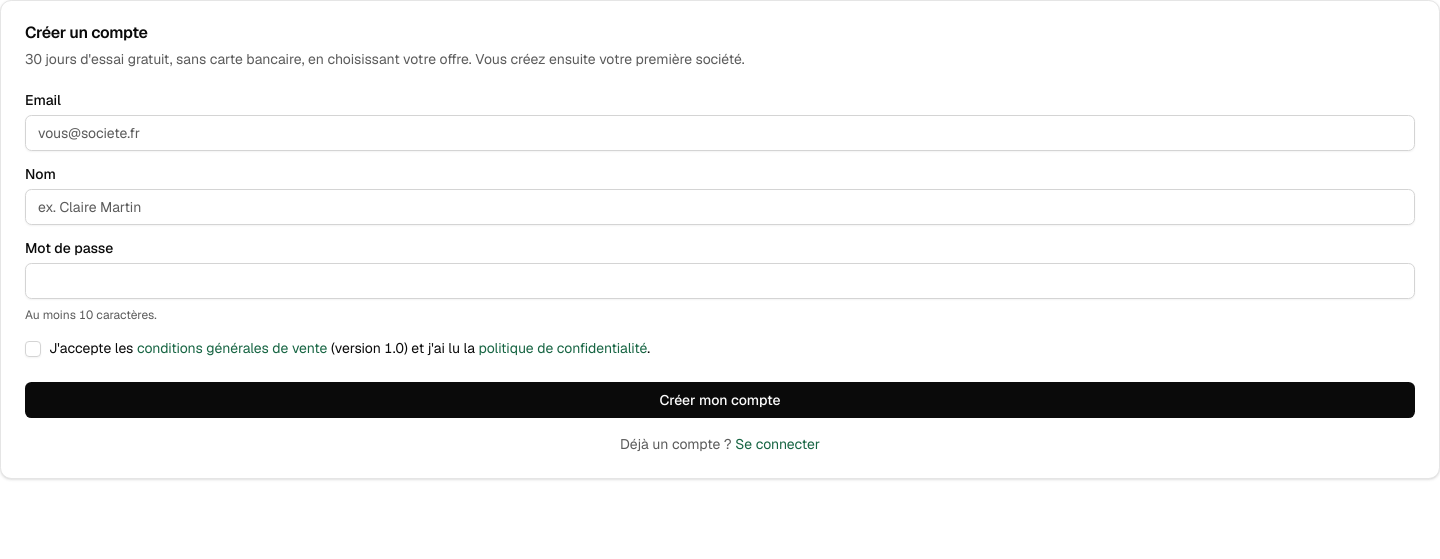
sign-up form › requires the terms, sends the version read, then points to the mailbox
The width and height of the screenshot is (1440, 559).
Check: the text "30 jours d'essai gratuit, sans carte bancaire" is shown, box x1=25 y1=50 x2=745 y2=68
Type "claire@societe.fr" into the field labelled "Email" at (720, 133), box x1=25 y1=115 x2=1415 y2=151
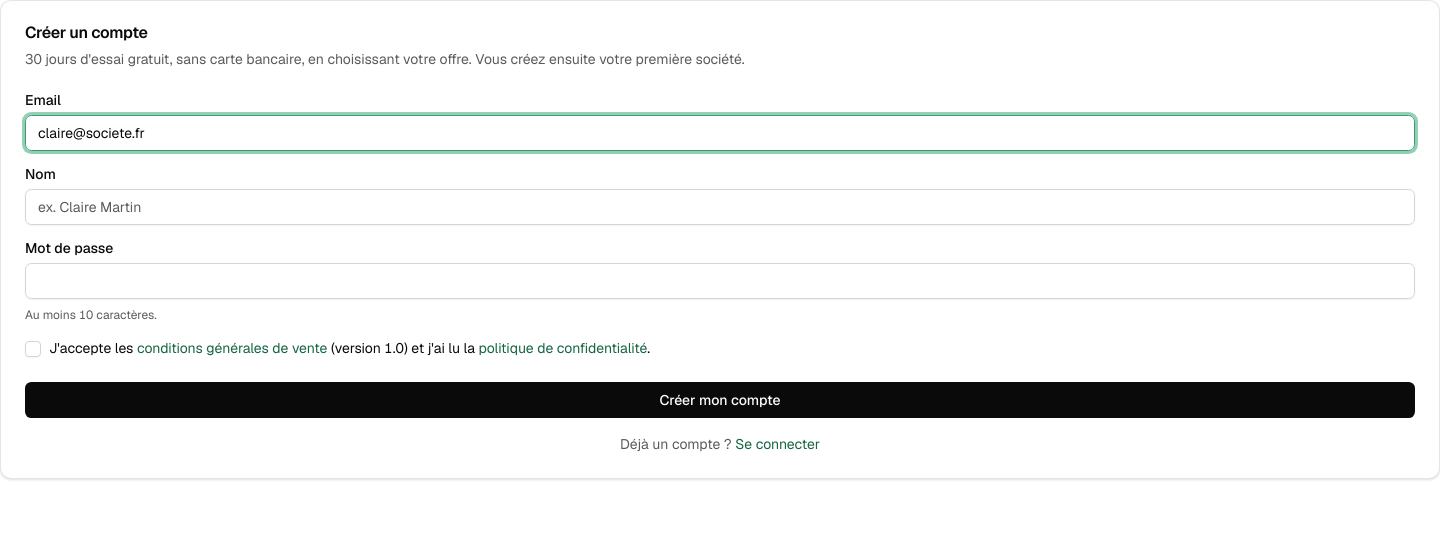
Type "un-mot-de-passe-solide" into the password field labelled "Mot de passe" at (720, 281), box x1=25 y1=263 x2=1415 y2=299
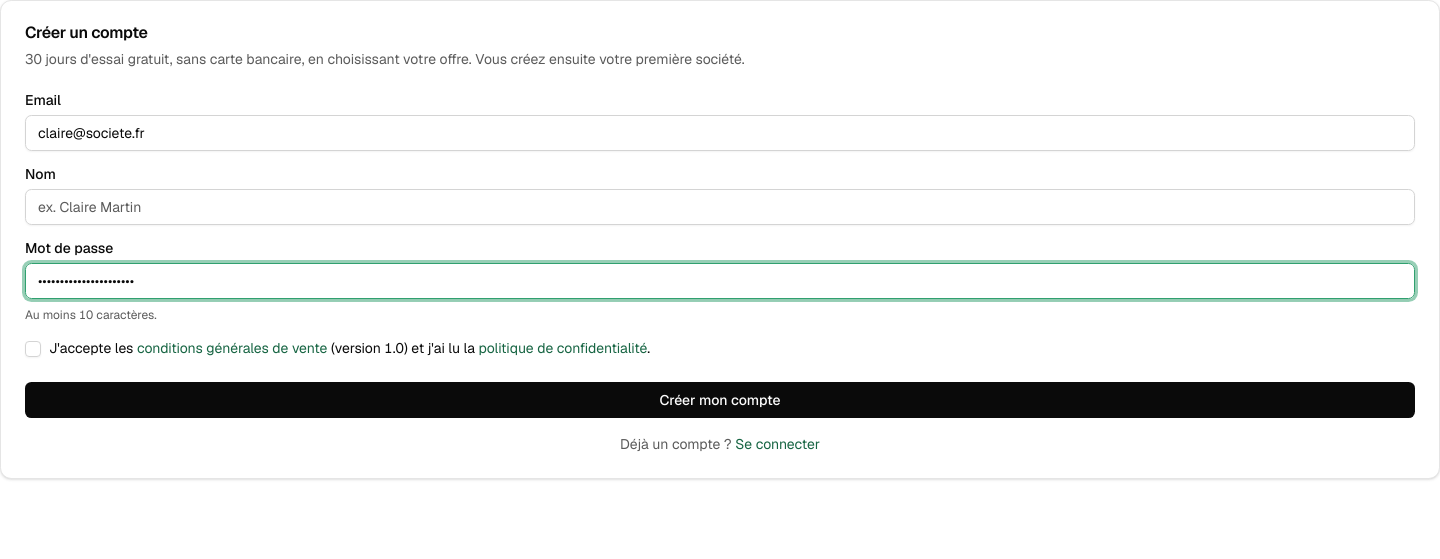
Click the button "Créer mon compte" at (720, 400), box x1=25 y1=382 x2=1415 y2=418
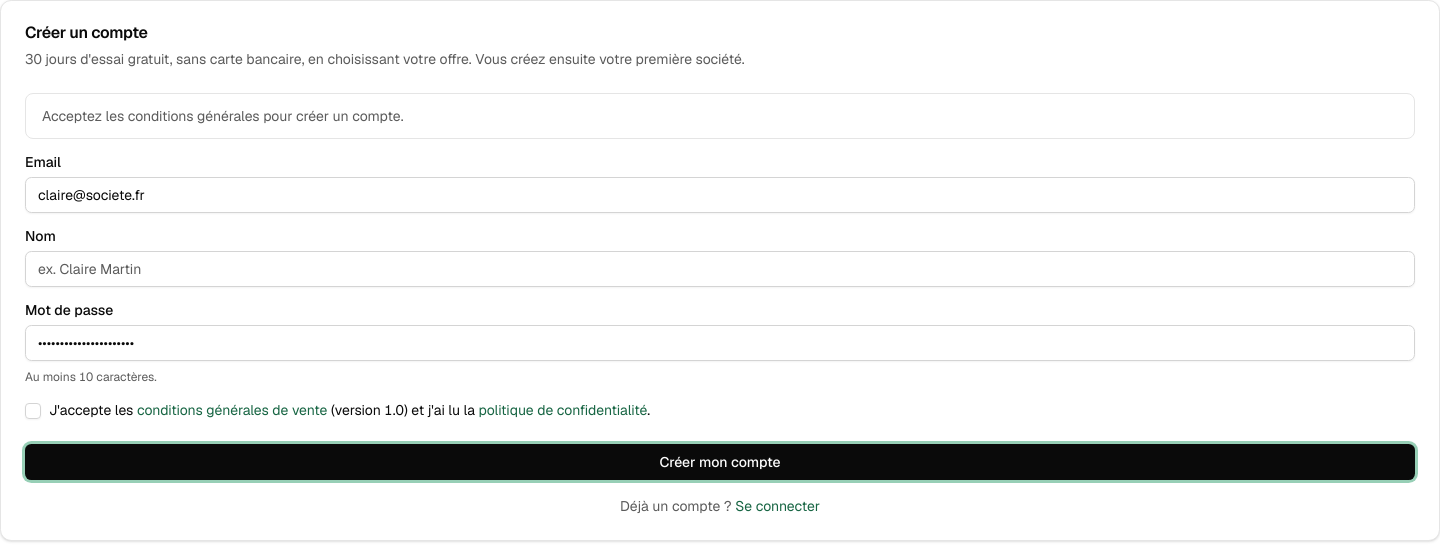
Check: the text "Acceptez les conditions générales pour créer un compte." is shown, box x1=42 y1=107 x2=404 y2=125
Click the checkbox at (33, 411), box x1=25 y1=403 x2=41 y2=419
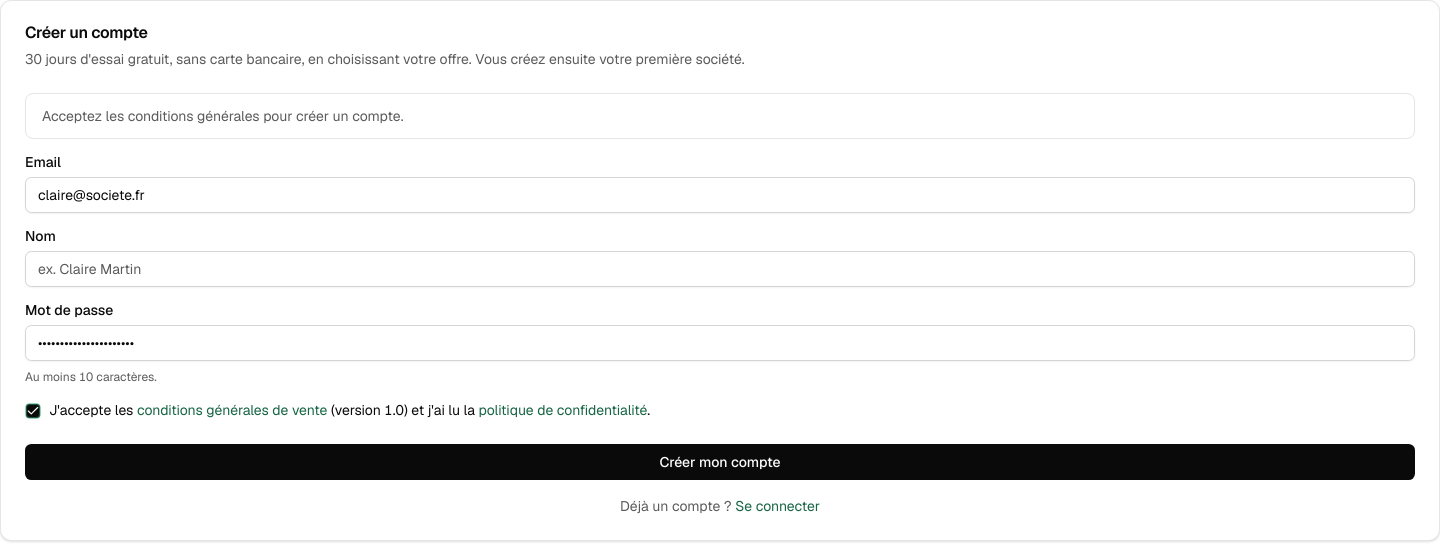
Click the button "Créer mon compte" at (720, 462), box x1=25 y1=444 x2=1415 y2=480
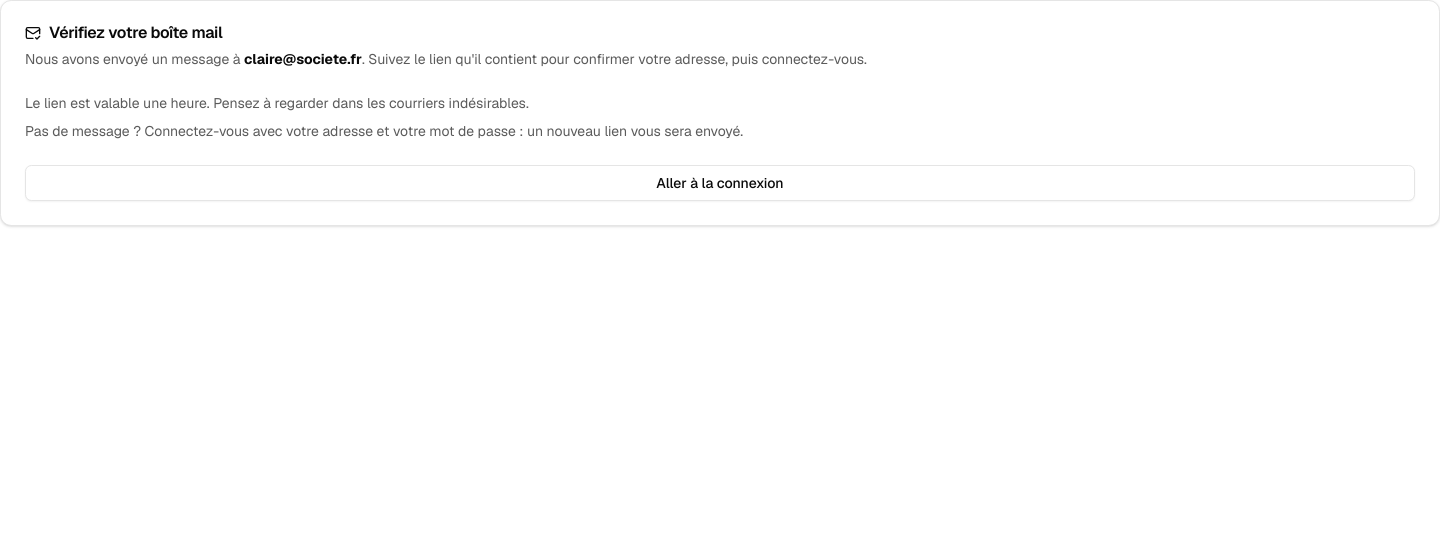
Check: the heading "Vérifiez votre boîte mail" is shown, box x1=25 y1=22 x2=222 y2=43
